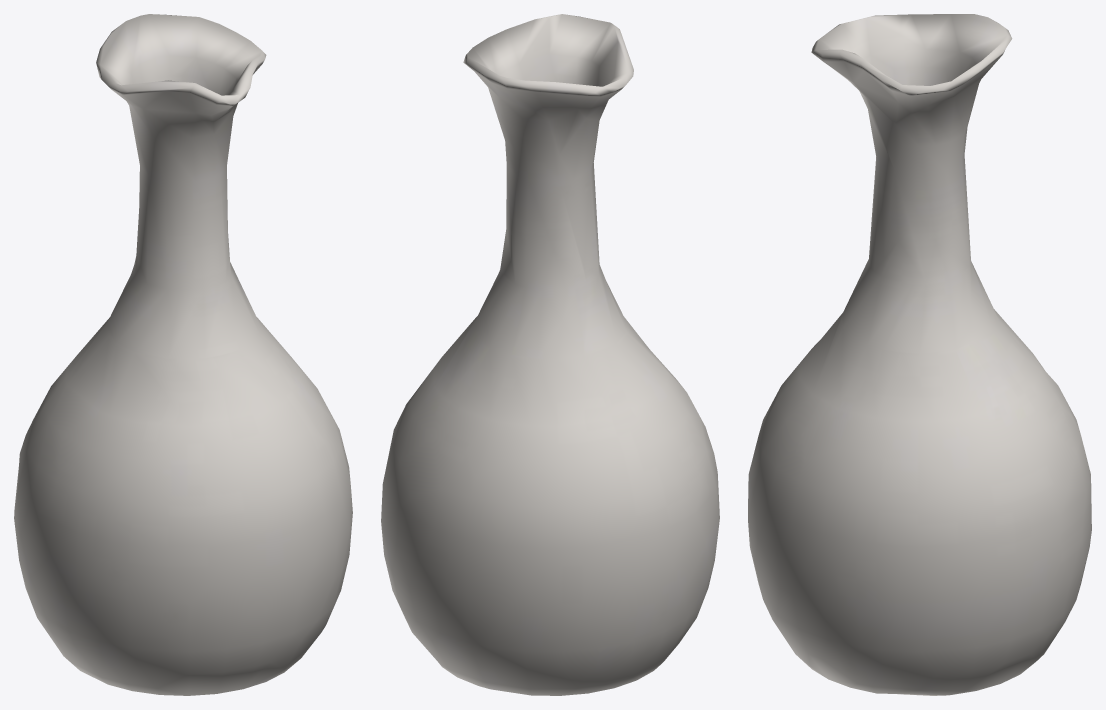
File: ceramic_vase_01.glb
3 views of the same model, side by side, from view 1: azimuth 30°, elevation 25°; view 2: azimuth 150°, elevation 25°; view 3: azimuth 270°, elevation 25° (orthographic). The views are drawn at different scales.
Visible parts, largest first — view 1: ceramic_vase_01; view 2: ceramic_vase_01; view 3: ceramic_vase_01.
Boxes of the visible parts, <box> form: ceramic_vase_01: <box>14,14,352,695</box>; ceramic_vase_01: <box>381,14,719,695</box>; ceramic_vase_01: <box>748,14,1091,695</box>.
Bounding box in the file's own units: 0.2022 × 0.4003 × 0.2024.
Materials: 1 (1 with a texture image).
